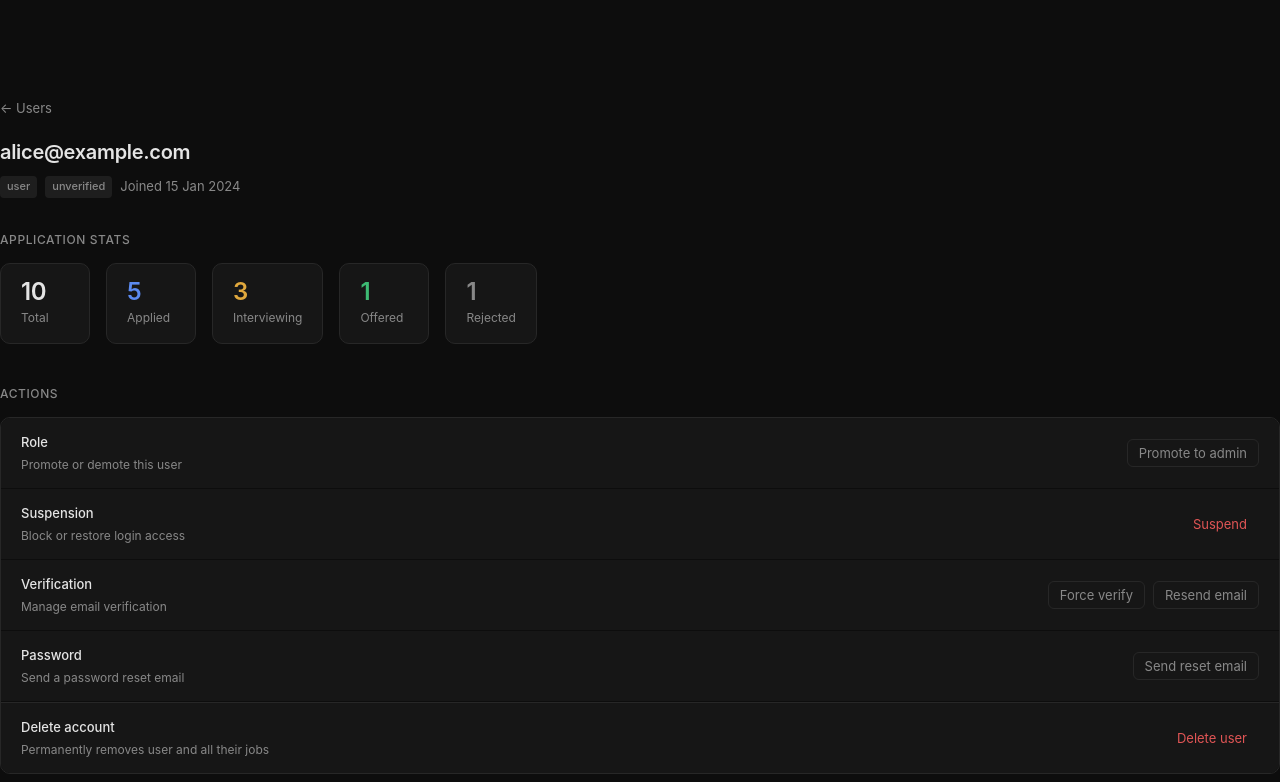
Test: AdminUserDetail › optimistically marks user as verified after forceVerify succeeds
Click the button "Force verify" at (1096, 595), box [1048,581,1145,609]
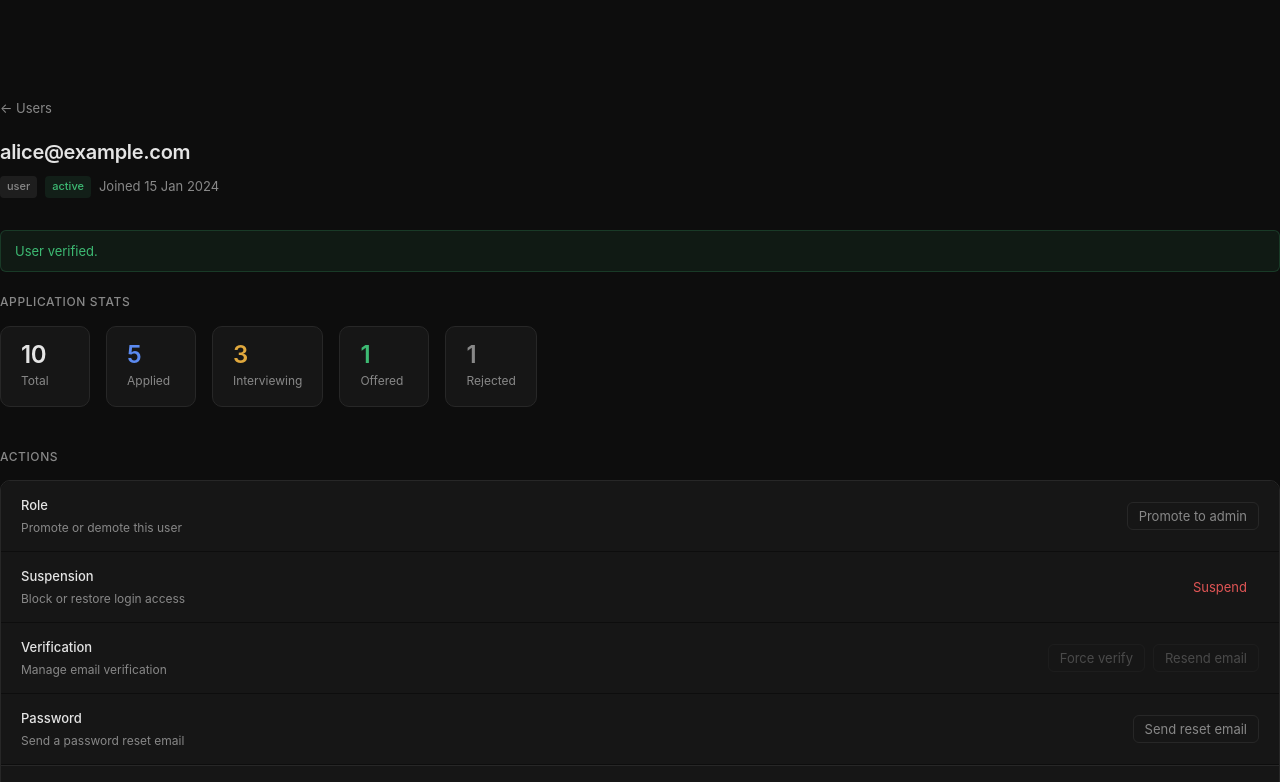
Result: the button "Force verify" is disabled at [1048,644,1145,672]
